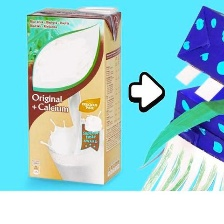carton: (22, 5, 129, 189)
